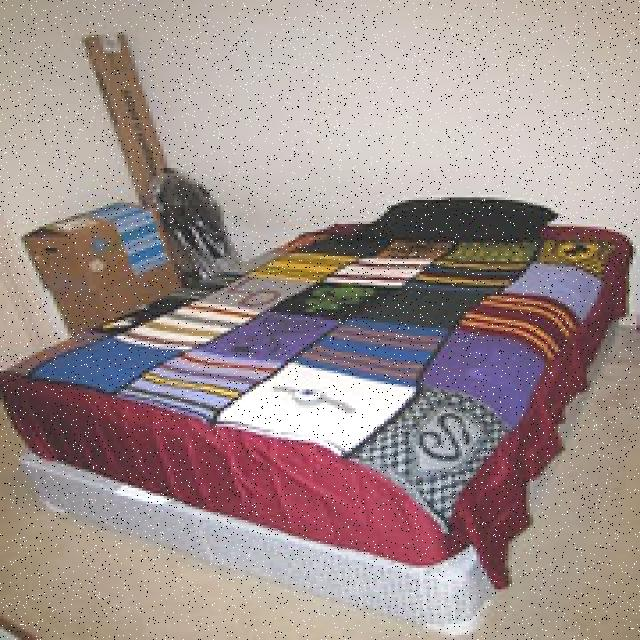bed: (29, 191, 640, 597)
